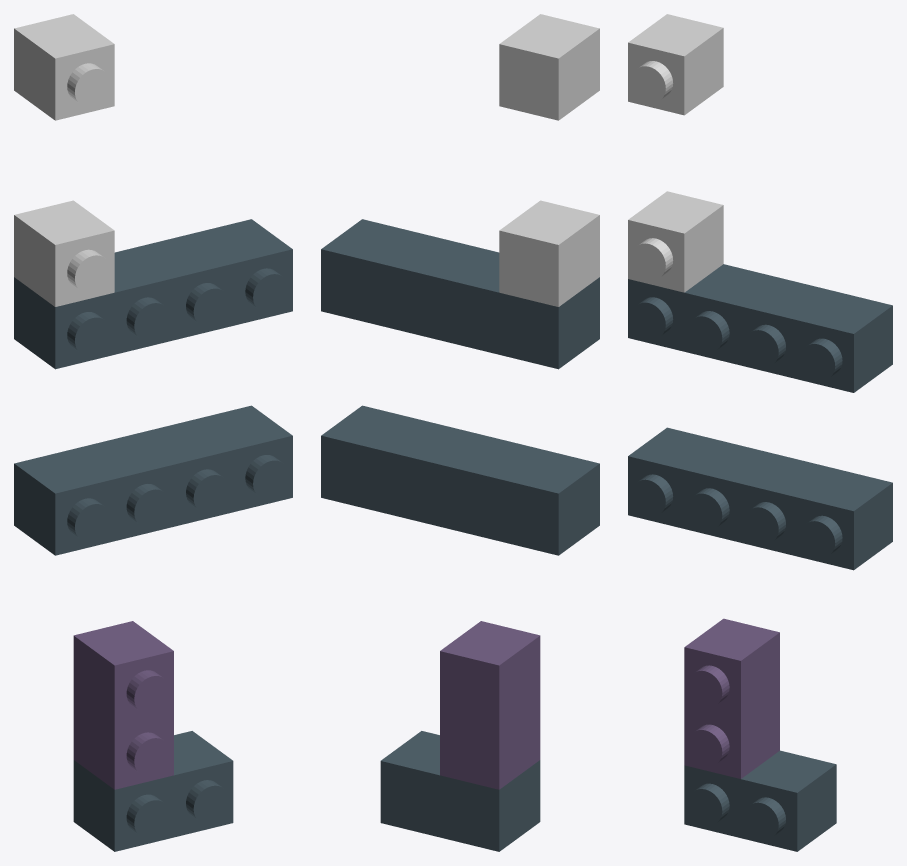
Rendered from current.glb.
3 renders of one model, left to right at view 1: azimuth 30°, elevation 25°; view 2: azimuth 150°, elevation 25°; view 3: azimuth 330°, elevation 25°, orthographic. The views are drawn at different scales.
Visible parts, largest first — view 1: world; view 2: world; view 3: world.
Part boxes in pixels (box(x1,y1,x2,y2)): world: box(14, 14, 292, 851); world: box(321, 14, 599, 851); world: box(628, 14, 892, 851).
Size of the model in its own units: 32 by 104 by 11.4.
